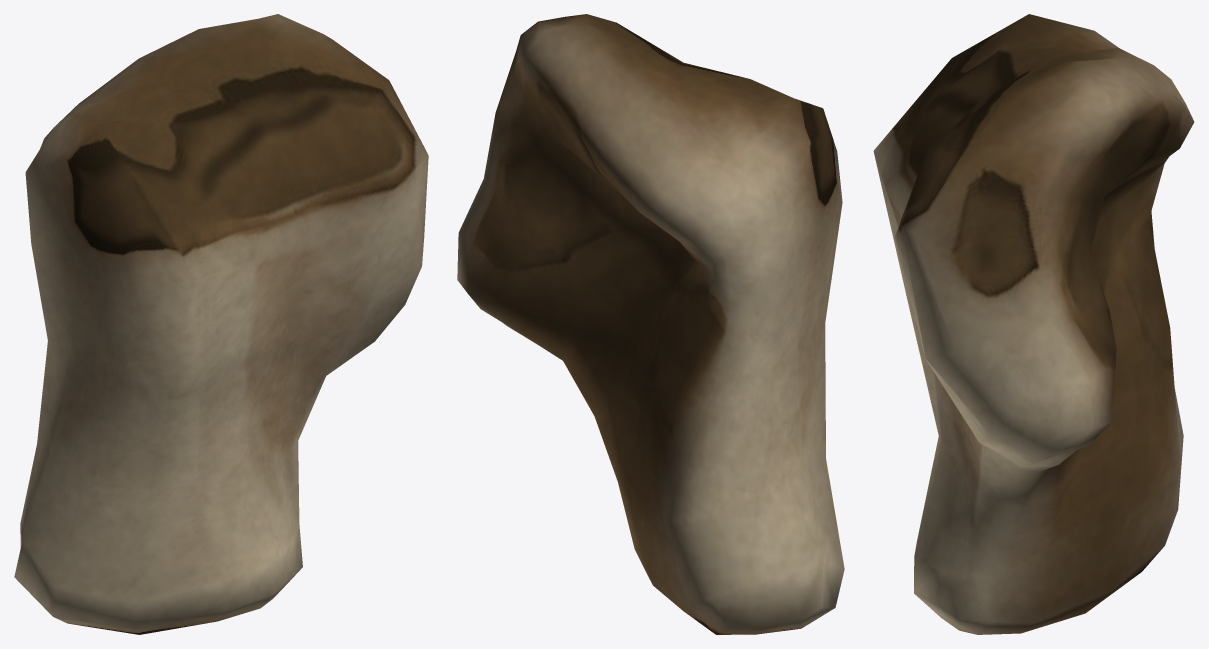
File: Trochlea.glb
3 renders of one model, left to right at view 1: azimuth 30°, elevation 25°; view 2: azimuth 150°, elevation 25°; view 3: azimuth 270°, elevation 25°, orthographic. The views are drawn at different scales.
Parts seen in each view (by area): view 1: Trochlea_Left1:Group30222; view 2: Trochlea_Left1:Group30222; view 3: Trochlea_Left1:Group30222.
Boxes of the visible parts, x1,y1,x2,y2 form: Trochlea_Left1:Group30222: (14, 14, 428, 634); Trochlea_Left1:Group30222: (457, 14, 844, 634); Trochlea_Left1:Group30222: (873, 14, 1194, 634).
Size of the model in its own units: 18.84 by 27.42 by 13.07.
Materials: 1 (1 with a texture image).
